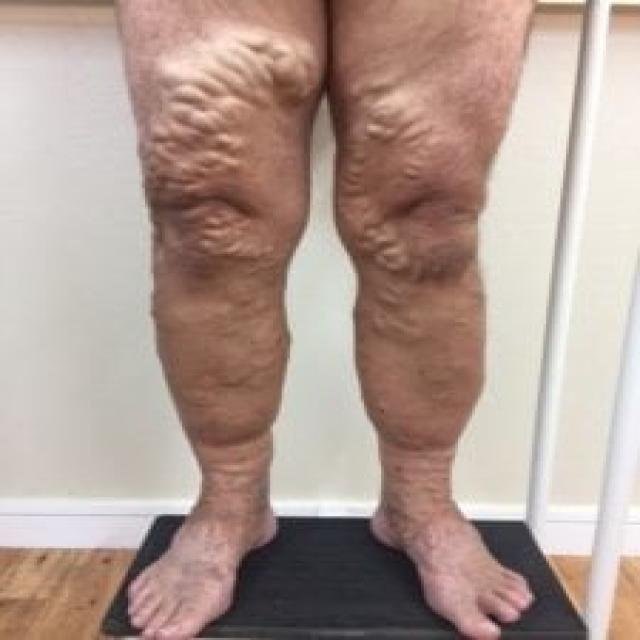Varicose: (100, 23, 483, 428)
